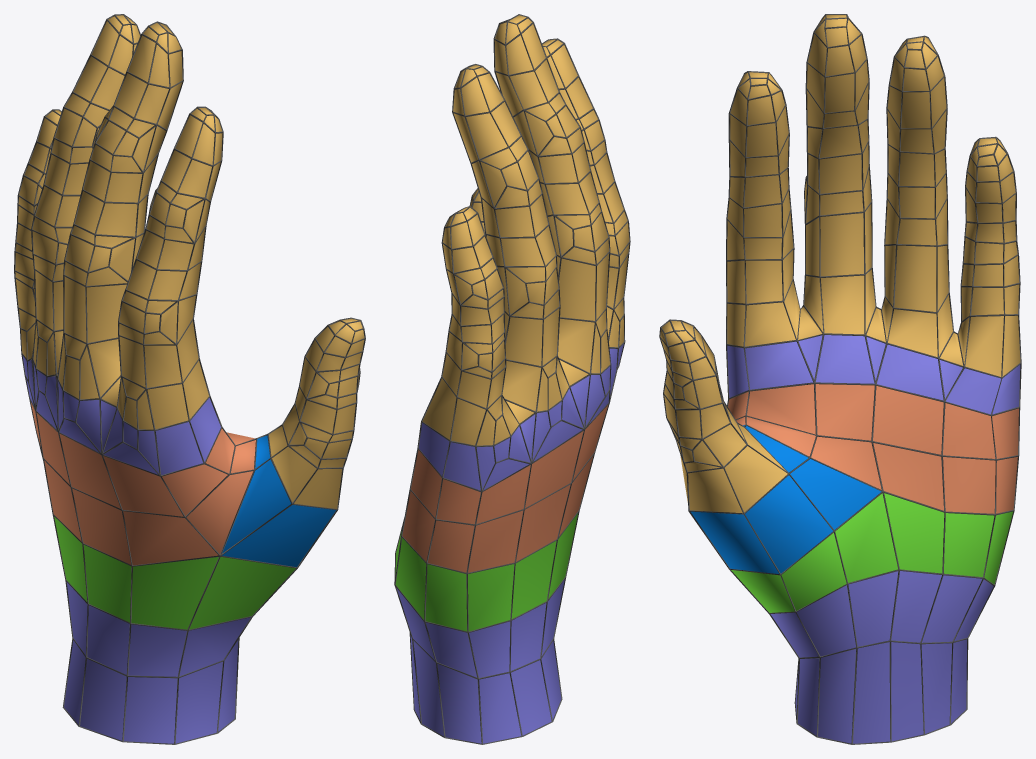
File: hand_model_base_mesh.glb
3 renders of one model, left to right at view 1: azimuth 30°, elevation 25°; view 2: azimuth 150°, elevation 25°; view 3: azimuth 270°, elevation 25°, orthographic. The views are drawn at different scales.
Parts seen in each view (by area): view 1: Hand_Wireframe_0; view 2: Hand_Wireframe_0; view 3: Hand_Wireframe_0.
Part boxes in pixels (x1,y1,x2,y2): Hand_Wireframe_0: [14, 14, 365, 744]; Hand_Wireframe_0: [394, 14, 630, 744]; Hand_Wireframe_0: [659, 14, 1021, 744].
Bounding box in the file's own units: 0.0581 × 0.1759 × 0.0837.
